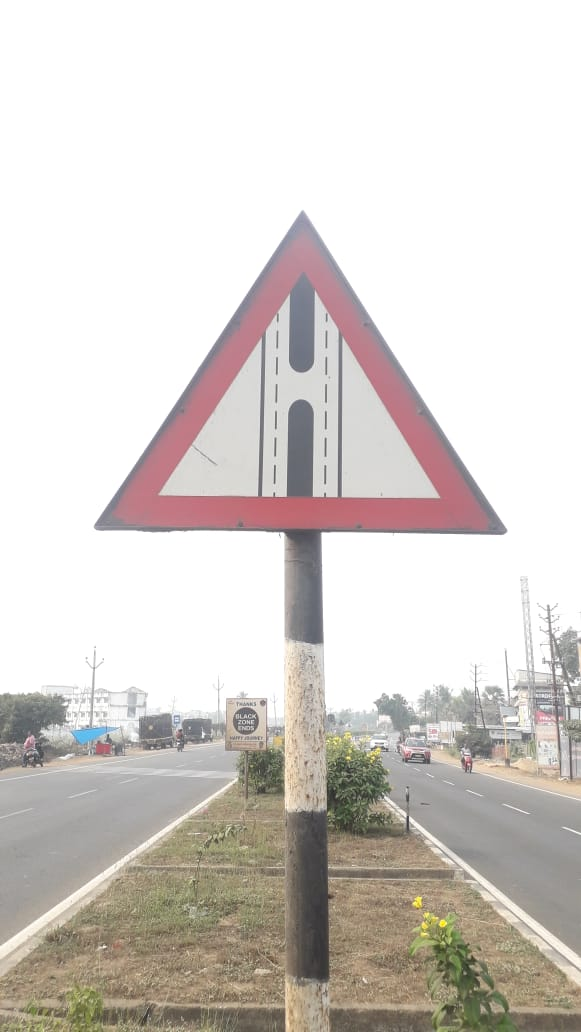highway go straight: (56, 188, 550, 576)
